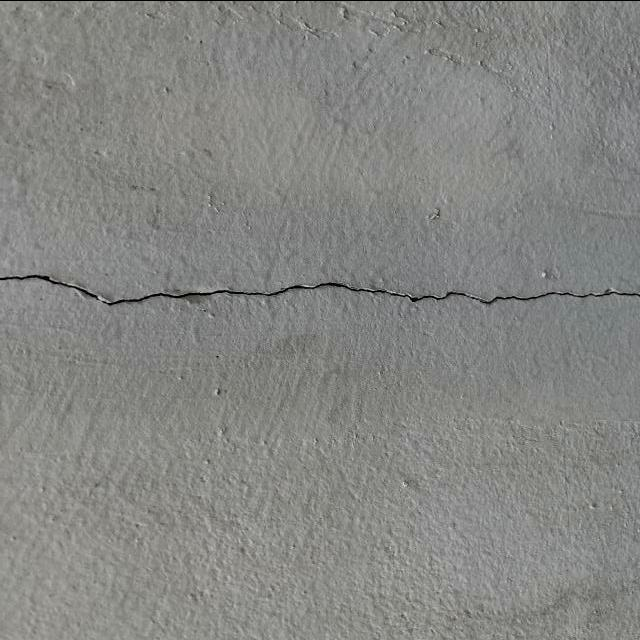SurfaceCrack: (1, 231, 640, 357)
